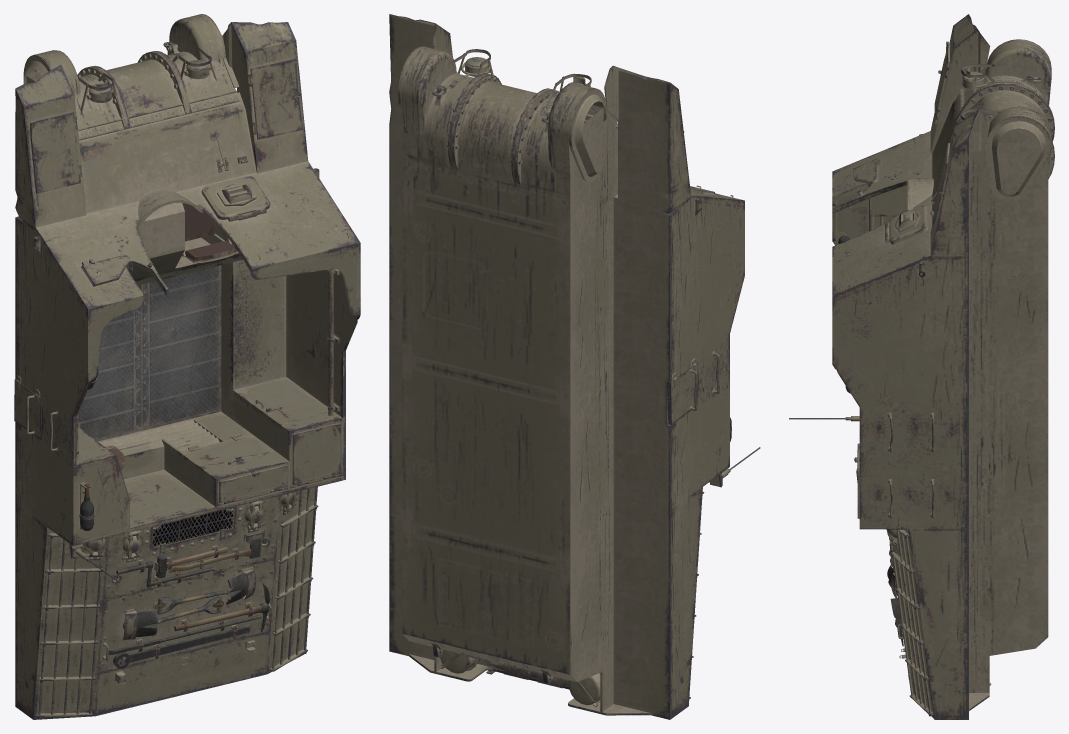
File: Hull.glb
The picture shows the model from 3 angles, left to right: view 1: azimuth 30°, elevation 25°; view 2: azimuth 150°, elevation 25°; view 3: azimuth 270°, elevation 25°; orthographic projection. The views are drawn at different scales.
Visible parts, largest first — view 1: set_0_group_0; view 2: set_0_group_0; view 3: set_0_group_0.
Part boxes in pixels (x1,y1,x2,y2): set_0_group_0: (14,14,360,719); set_0_group_0: (389,14,760,719); set_0_group_0: (789,14,1054,719).
Size of the model in its own units: 2.86 by 6 by 2.44.
Materials: 1 (1 with a texture image).
